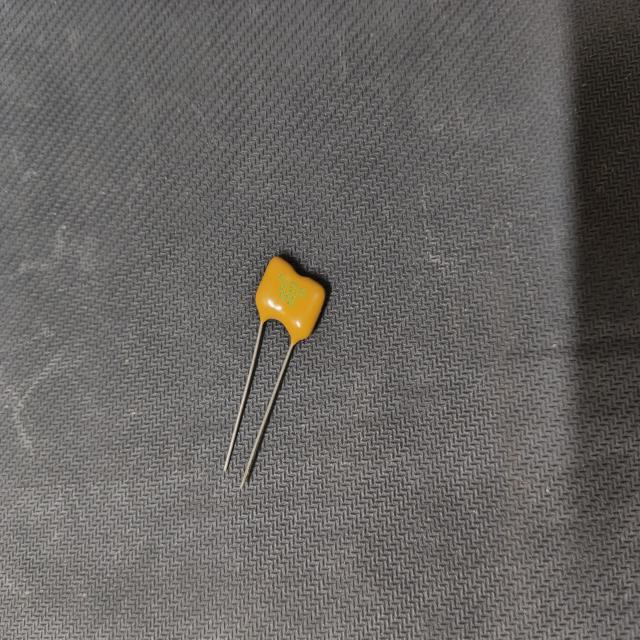resistor: (219, 247, 331, 489)
